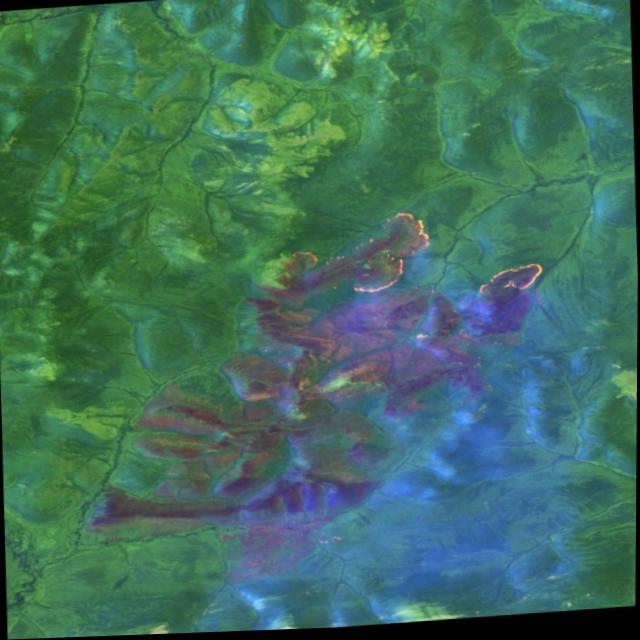fire: (269, 201, 435, 311), (466, 248, 549, 339)
